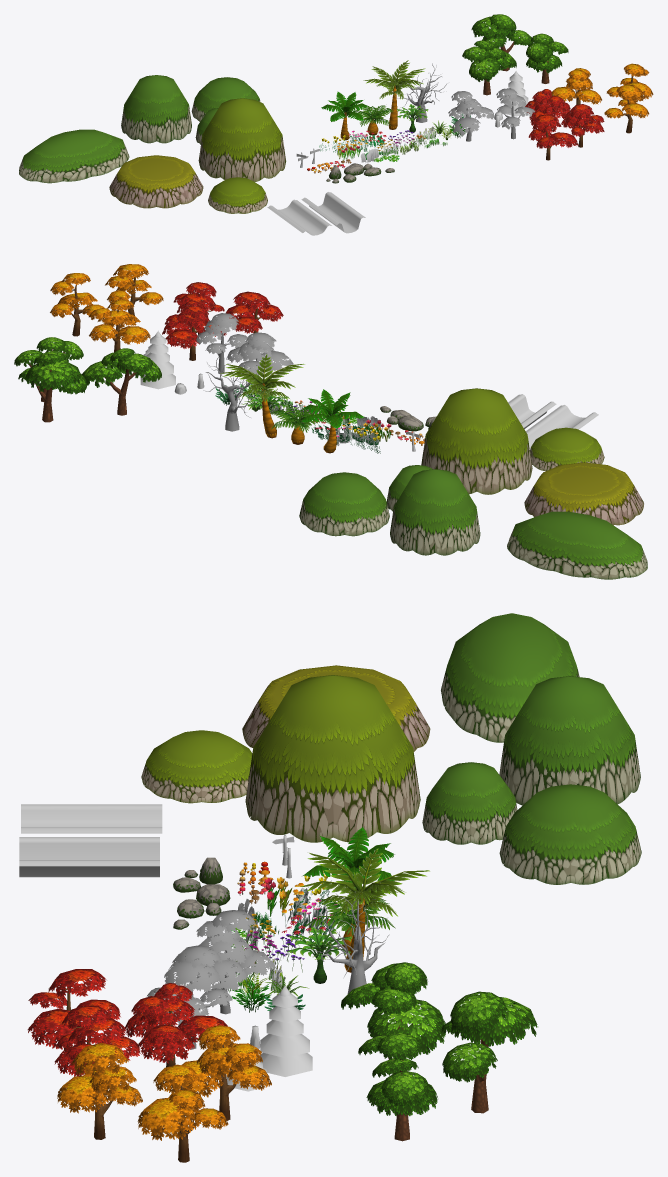
File: FOREST.obj
3 views of the same model, one above another, from view 1: azimuth 30°, elevation 25°; view 2: azimuth 150°, elevation 25°; view 3: azimuth 270°, elevation 25° (orthographic). The views are drawn at different scales.
Parts seen in each view (by area): view 1: Sphere136, Sphere137, Cylinder018, Sphere138, Sphere135, Sphere140, Line050, Line042, Line053, Line024, Line054, Line051 (+17 smaller); view 2: Sphere136, Sphere137, Sphere138, Cylinder018, Sphere140, Sphere135, Line042, Line050, Line047, Line024, Line046, Line054 (+13 smaller); view 3: Sphere136, Sphere138, Sphere140, Sphere137, Sphere135, Sphere139, Line042, Line050, Line046, Line053, Cylinder018, Line049 (+18 smaller).
Boxes of the visible parts, x1,y1,x2,y2 form: Sphere136: (198,98,286,181); Sphere137: (19,129,129,183); Cylinder018: (109,155,203,208); Sphere138: (121,75,191,143); Sphere135: (208,177,267,213); Sphere140: (191,77,260,121); Line050: (462,40,516,95); Line042: (471,14,532,71); Line053: (526,33,568,83); Line024: (363,60,425,129); Line054: (448,91,494,141); Line051: (528,114,578,160); Sphere136: (421,388,532,494); Sphere137: (507,511,647,579); Sphere138: (390,469,480,555); Cylinder018: (524,462,643,525); Sphere140: (299,472,389,536); Sphere135: (530,427,604,470); Line042: (18,351,86,422); Line050: (81,348,161,415); Line047: (89,300,150,352); Line024: (220,354,304,438); Line046: (162,301,226,360); Line054: (226,332,293,375); Sphere136: (245,675,420,842); Sphere138: (499,676,640,805); Sphere140: (499,784,641,884); Sphere137: (441,613,579,742); Sphere135: (141,730,252,803); Sphere139: (422,762,517,844); Line042: (441,991,537,1113); Line050: (341,962,445,1073); Line046: (125,983,227,1067); Line053: (358,1033,437,1141); Cylinder018: (242,665,430,751); Line049: (57,1043,142,1139).
Bounding box in the file's own units: 1456 × 212 × 719.
